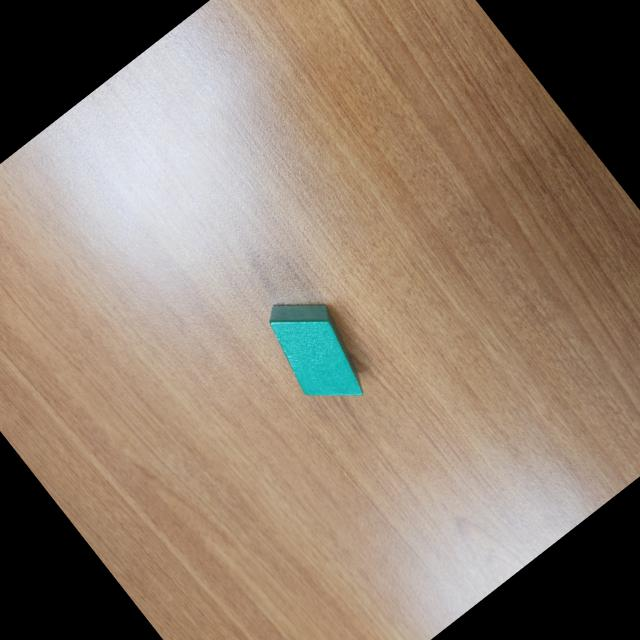green: (249, 279, 384, 424)
